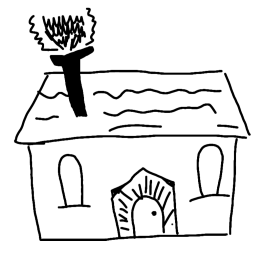door: (106, 162, 183, 244)
open_window: (50, 148, 98, 216), (187, 139, 232, 205)
roof: (5, 66, 255, 144)
smoking_chimney: (22, 5, 130, 125)
wall: (24, 131, 241, 244)
